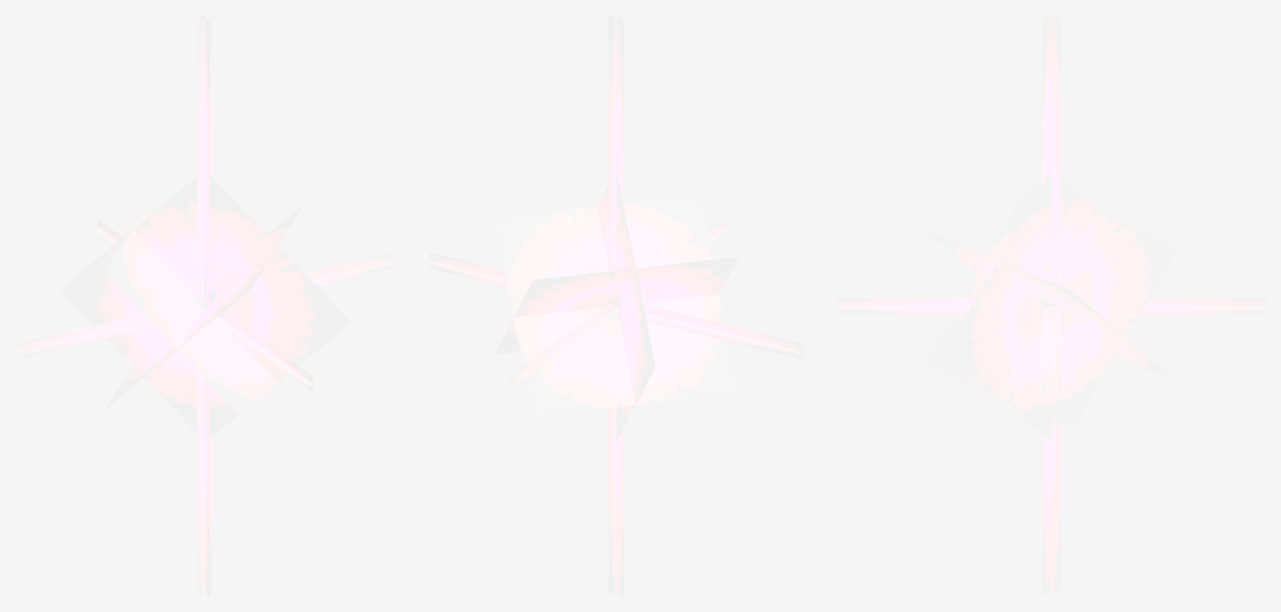
File: sfx_spirit_lower_modelstudentbag_red.glb
The picture shows the model from 3 angles, left to right: view 1: azimuth 30°, elevation 25°; view 2: azimuth 150°, elevation 25°; view 3: azimuth 270°, elevation 25°; orthographic projection.
Visible parts, largest first — view 1: sfx_spirit_lower_modelstudentbag_red_obj0; view 2: sfx_spirit_lower_modelstudentbag_red_obj0; view 3: sfx_spirit_lower_modelstudentbag_red_obj0.
Boxes of the visible parts, x1=… form: sfx_spirit_lower_modelstudentbag_red_obj0: x1=14, y1=14, x2=396, y2=597; sfx_spirit_lower_modelstudentbag_red_obj0: x1=425, y1=14, x2=807, y2=597; sfx_spirit_lower_modelstudentbag_red_obj0: x1=836, y1=17, x2=1266, y2=594.
Bounding box in the file's own units: 1.22 × 1.8 × 1.22.
1 material, 1 textured.
